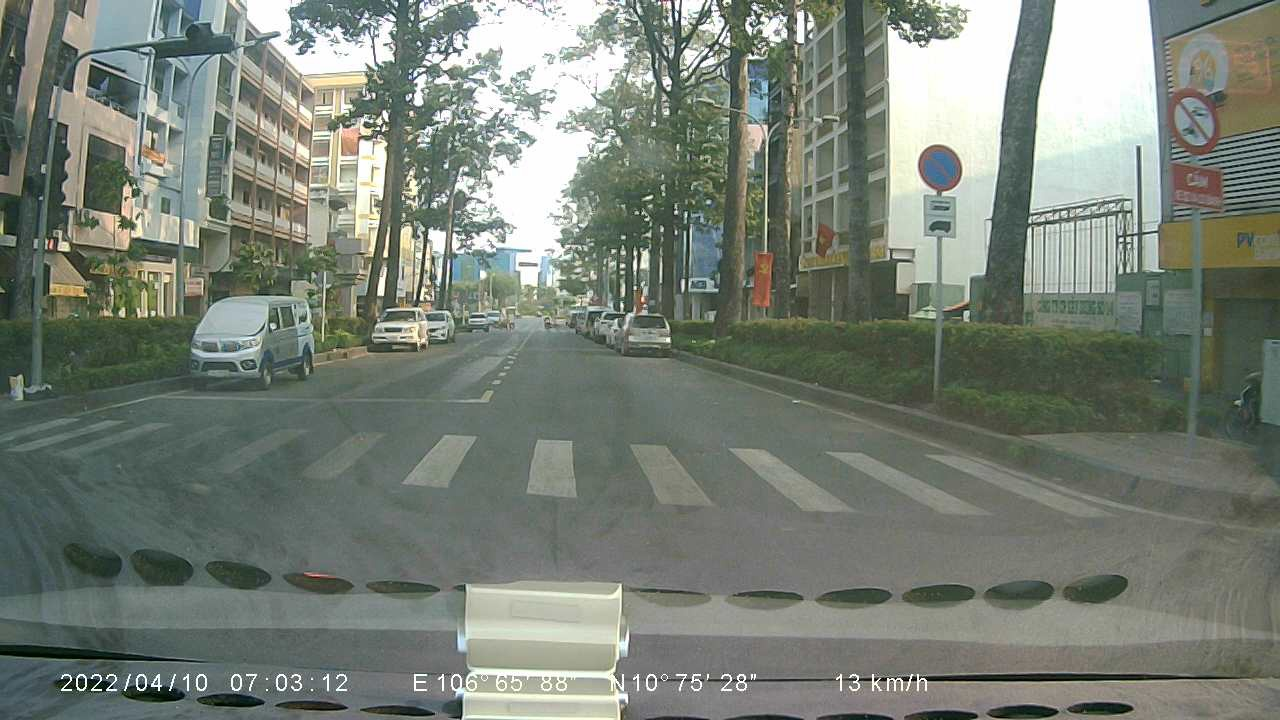Bien khac: (1164, 84, 1226, 155)
Cam do xe: (916, 140, 962, 192)
